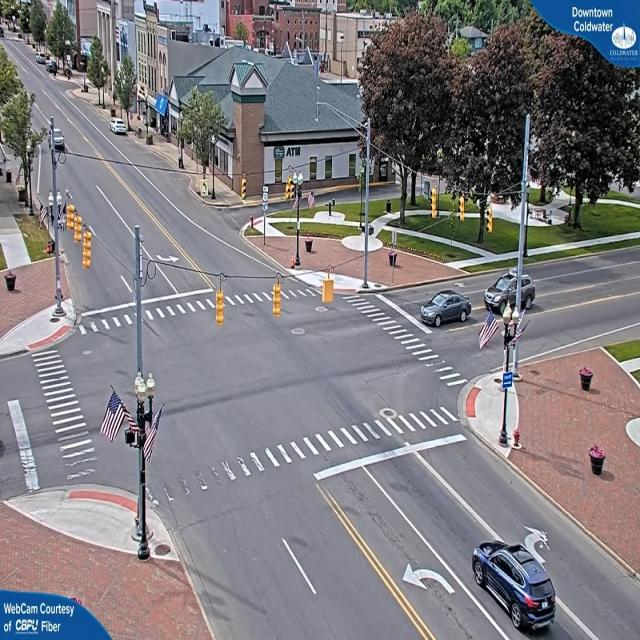car: (471, 536, 558, 619), (420, 290, 472, 328), (112, 121, 130, 138)
